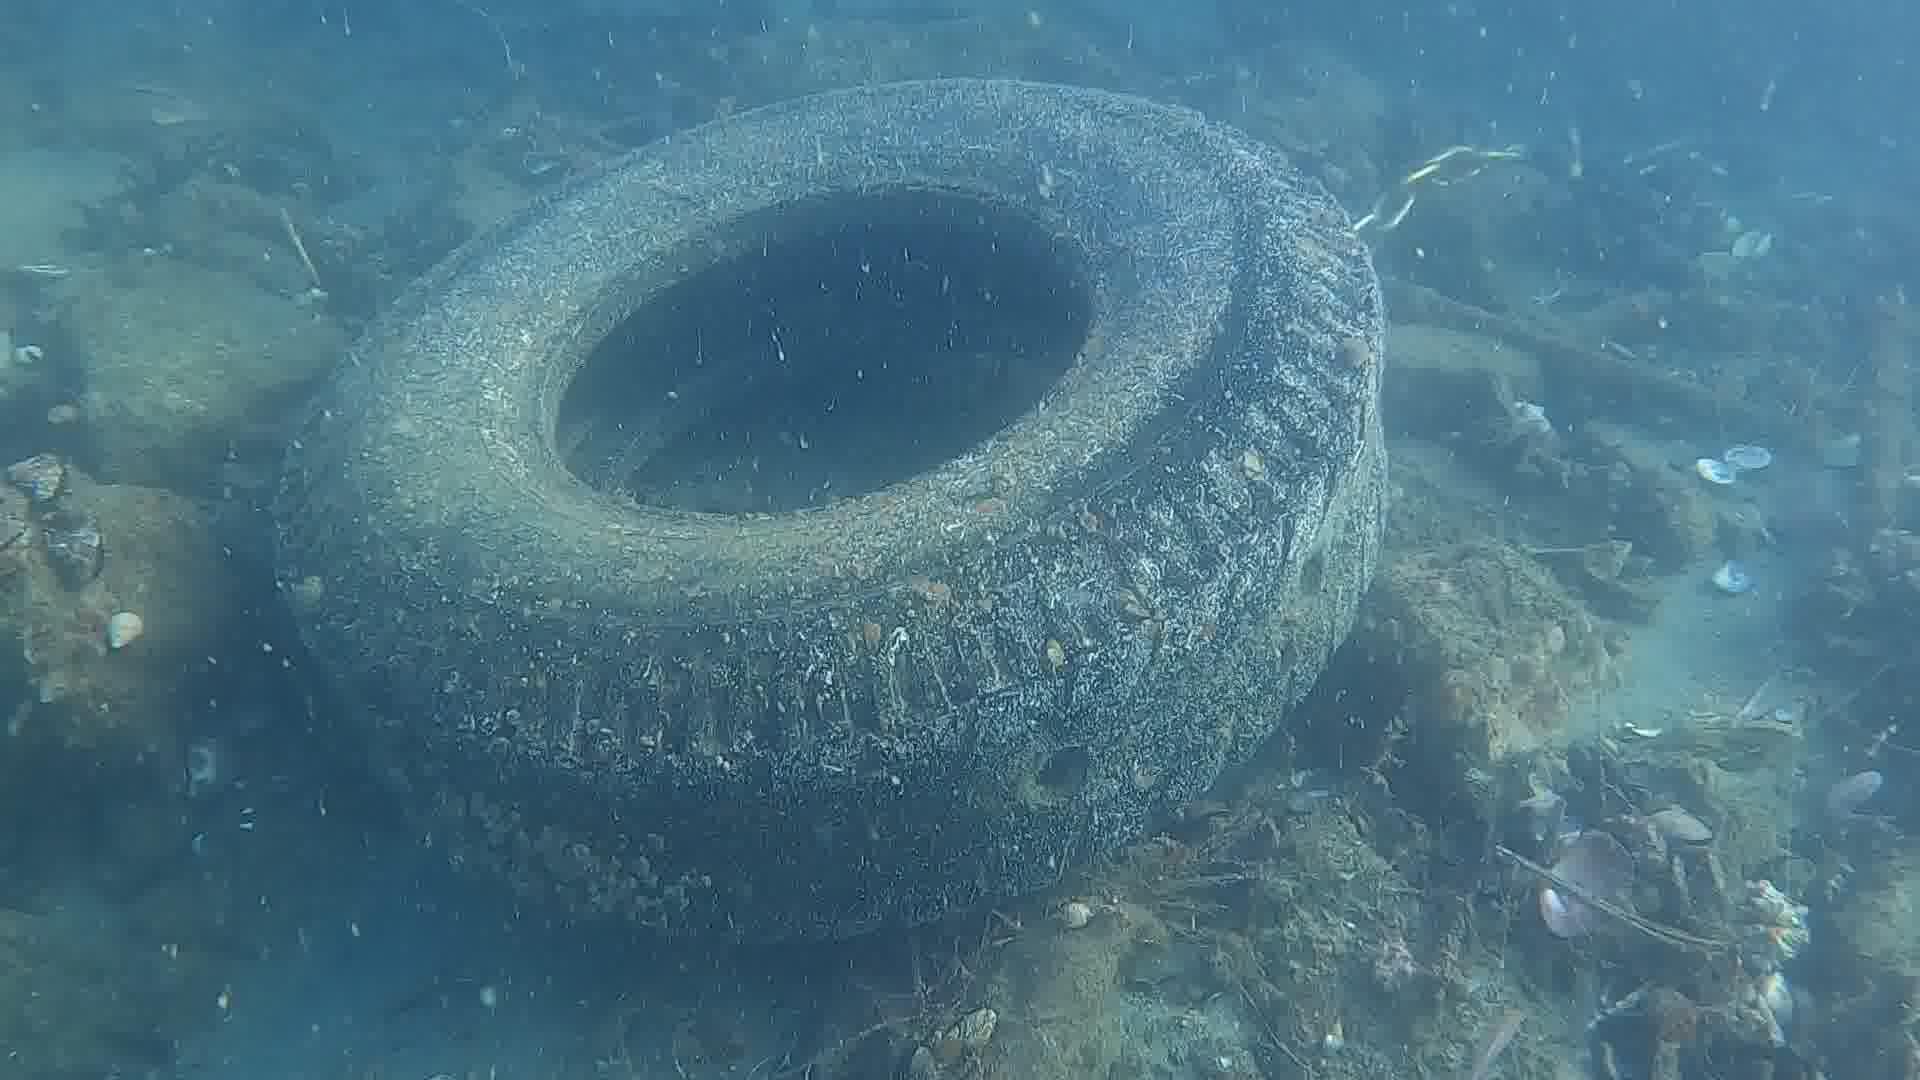tire: (260, 75, 1393, 934)
